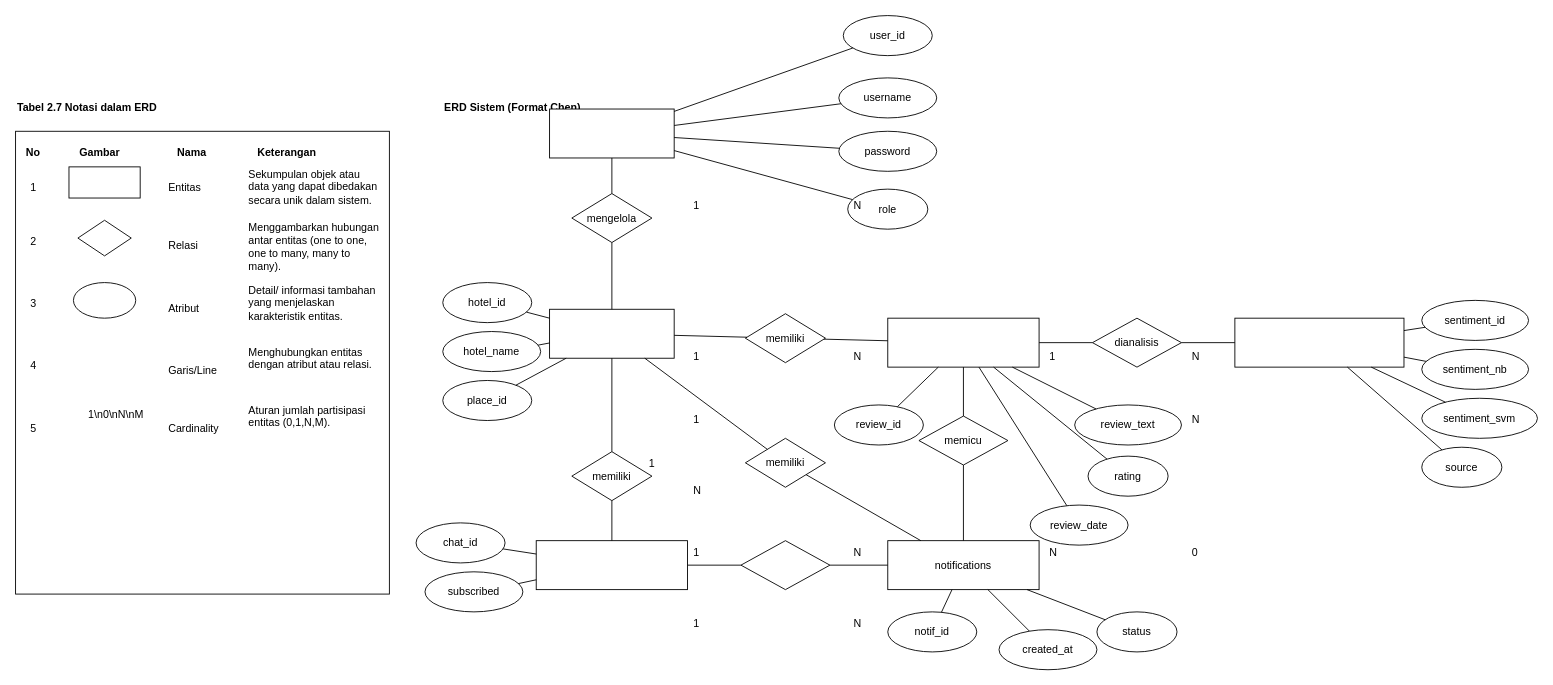
The diagram is 1553 pixels wide and 685 high, and some of its shapes have lost their labels. Here are the shapes that lost their labels. From the top down, the centre of each, then its label:
At [611,133]: "users".
At [611,333]: "hotels".
At [963,342]: "hotel_reviews".
At [1319,342]: "sentiment_reviews".
At [611,565]: "telegram_users".
At [785,565]: "menerima".
